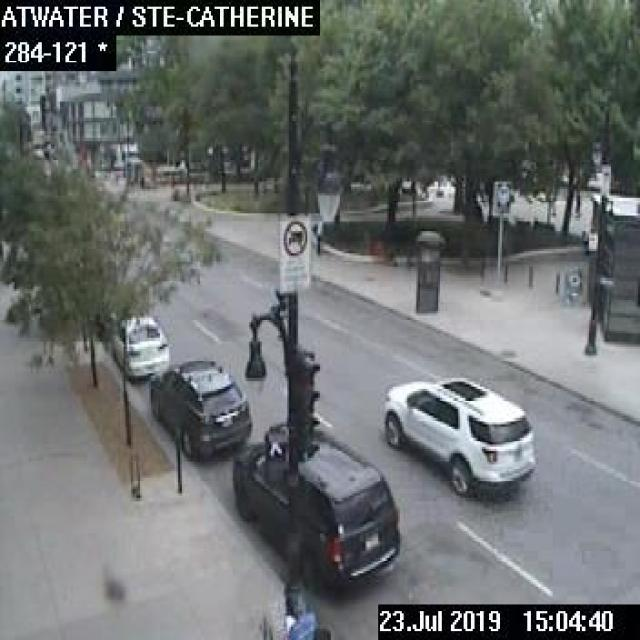vehicle: (231, 429, 399, 589), (382, 372, 536, 494), (149, 357, 250, 458), (113, 314, 169, 378)
